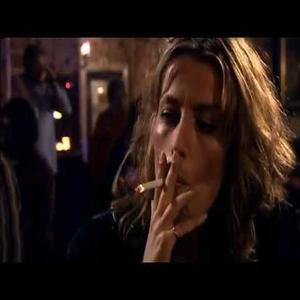cigarette: (132, 177, 168, 197)
